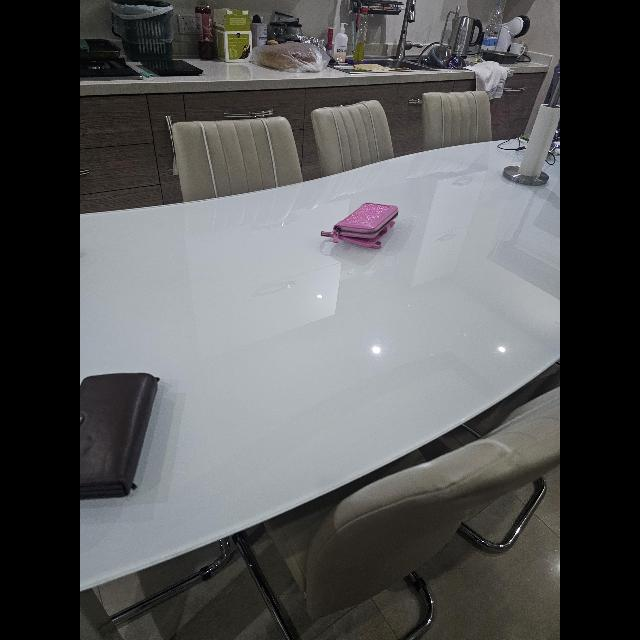Wallet: (80, 373, 158, 499), (322, 203, 398, 249)
